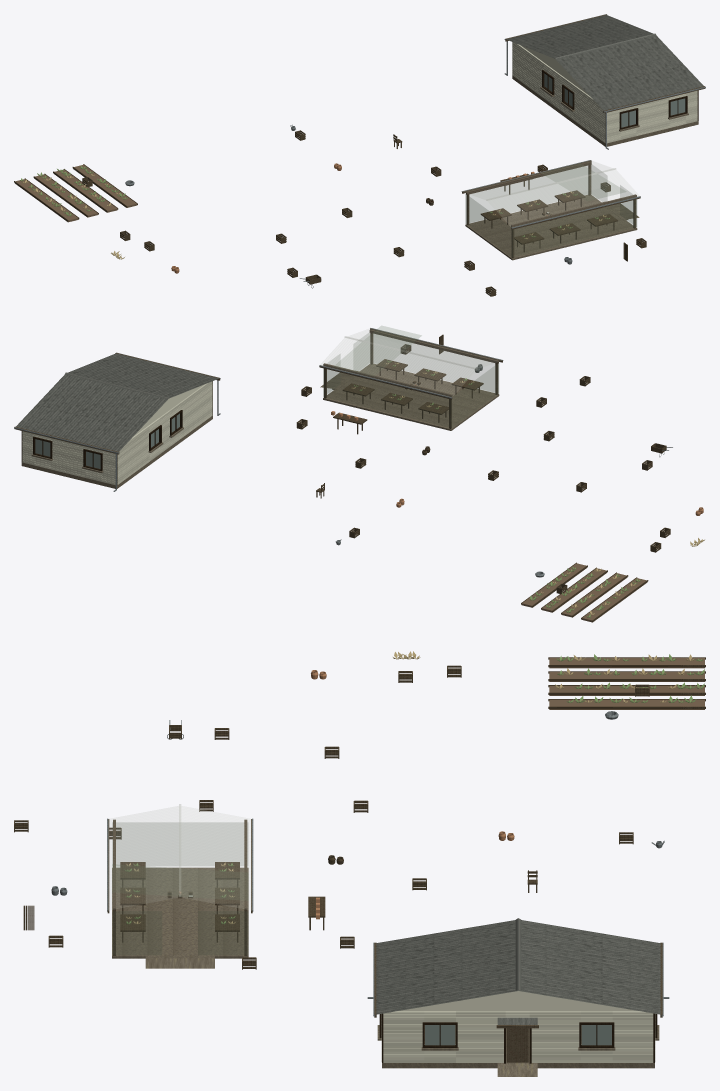
3 views of the same model, one above another, from view 1: azimuth 30°, elevation 25°; view 2: azimuth 150°, elevation 25°; view 3: azimuth 270°, elevation 25° (orthographic). The views are drawn at different scales.
Parts seen in each view (by area): view 1: H12_CHAPAS_ONDULADAS, H12_VIVEIRO_TELA, H12_VIVEIRO_COBERTURA, H12_VIVEIRO_BASE, H12_FUNDOS, H12_HORTA_TERRA, H12_LATERAIS, NEXT_SOFT_H12_VIVEIRO_SOMBRITE, H12_VIVEIRO_MUDAS_TAMPO, H12_VIVEIRO_TELA_FUNDO, H12_VIVEIRO_VIGAS, H12_HORTA_BORDAS (+7 smaller); view 2: H12_CHAPAS_ONDULADAS, H12_VIVEIRO_COBERTURA, H12_VIVEIRO_TELA, H12_VIVEIRO_BASE, H12_FUNDOS, H12_HORTA_TERRA, H12_LATERAIS, NEXT_SOFT_H12_VIVEIRO_SOMBRITE, H12_VIVEIRO_MUDAS_TAMPO, H12_VIVEIRO_TELA_FUNDO, H12_VIVEIRO_VIGAS, H12_HORTA_BORDAS (+6 smaller); view 3: H12_CHAPAS_ONDULADAS, H12_VIVEIRO_COBERTURA, H12_FACHADA, H12_VIVEIRO_BASE, H12_VIVEIRO_TELA_FUNDO, H12_HORTA_TERRA, H12_VIVEIRO_TELA_FRENTE, NEXT_SOFT_H12_VIVEIRO_SOMBRITE, H12_OITOES, H12_VIVEIRO_MUDAS_TAMPO, H12_HORTA_BORDAS, H12_FUNDACAO (+5 smaller).
Part boxes in pixels (bbox=[...]): H12_CHAPAS_ONDULADAS: bbox=[507, 15, 703, 110]; H12_VIVEIRO_TELA: bbox=[469, 166, 636, 256]; H12_VIVEIRO_COBERTURA: bbox=[465, 161, 638, 226]; H12_VIVEIRO_BASE: bbox=[465, 195, 637, 260]; H12_FUNDOS: bbox=[512, 42, 605, 142]; H12_HORTA_TERRA: bbox=[15, 164, 137, 222]; H12_LATERAIS: bbox=[607, 90, 697, 143]; NEXT_SOFT_H12_VIVEIRO_SOMBRITE: bbox=[541, 164, 625, 201]; H12_VIVEIRO_MUDAS_TAMPO: bbox=[480, 190, 617, 244]; H12_VIVEIRO_TELA_FUNDO: bbox=[465, 194, 511, 256]; H12_VIVEIRO_VIGAS: bbox=[466, 161, 636, 227]; H12_HORTA_BORDAS: bbox=[14, 164, 137, 221]; H12_CHAPAS_ONDULADAS: bbox=[16, 353, 218, 451]; H12_VIVEIRO_COBERTURA: bbox=[321, 329, 501, 396]; H12_VIVEIRO_TELA: bbox=[323, 343, 494, 427]; H12_VIVEIRO_BASE: bbox=[323, 364, 499, 430]; H12_FUNDOS: bbox=[117, 381, 212, 484]; H12_HORTA_TERRA: bbox=[521, 563, 647, 622]; H12_LATERAIS: bbox=[22, 431, 115, 485]; NEXT_SOFT_H12_VIVEIRO_SOMBRITE: bbox=[334, 326, 421, 375]; H12_VIVEIRO_MUDAS_TAMPO: bbox=[342, 359, 483, 414]; H12_VIVEIRO_TELA_FUNDO: bbox=[451, 363, 498, 427]; H12_VIVEIRO_VIGAS: bbox=[323, 329, 498, 397]; H12_HORTA_BORDAS: bbox=[521, 562, 648, 621]; H12_CHAPAS_ONDULADAS: bbox=[376, 920, 660, 1014]; H12_VIVEIRO_COBERTURA: bbox=[109, 806, 251, 909]; H12_FACHADA: bbox=[383, 1011, 653, 1062]; H12_VIVEIRO_BASE: bbox=[112, 867, 248, 958]; H12_VIVEIRO_TELA_FUNDO: bbox=[112, 823, 243, 865]; H12_HORTA_TERRA: bbox=[549, 658, 704, 709]; H12_VIVEIRO_TELA_FRENTE: bbox=[112, 911, 248, 954]; NEXT_SOFT_H12_VIVEIRO_SOMBRITE: bbox=[112, 864, 248, 900]; H12_OITOES: bbox=[397, 991, 639, 1011]; H12_VIVEIRO_MUDAS_TAMPO: bbox=[120, 862, 239, 931]; H12_HORTA_BORDAS: bbox=[548, 657, 705, 708]; H12_FUNDACAO: bbox=[382, 1025, 654, 1068].
Bounding box in the file's own units: 47.24 × 4.28 × 32.9.
Materials: 16 (7 with a texture image).
